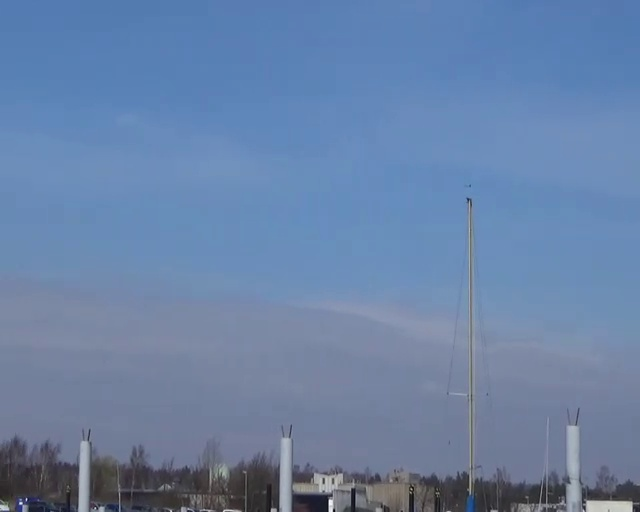BIRD: (90, 355, 103, 371)
